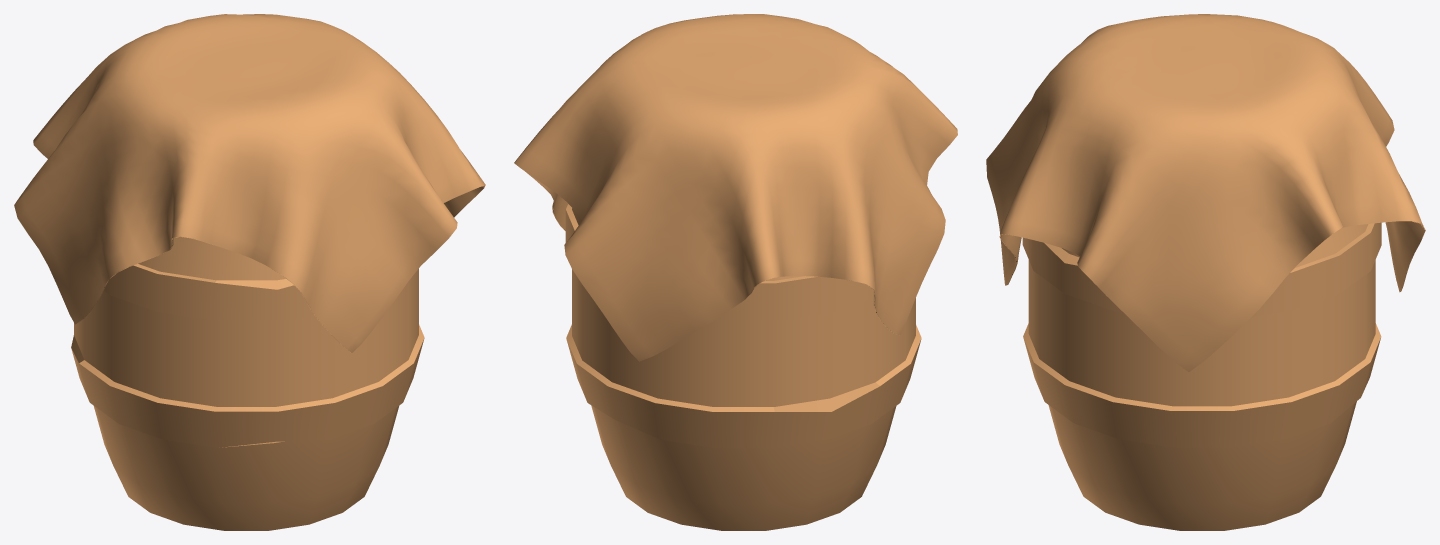
The model's file is Barrel_M.fbx.
3 renders of one model, left to right at view 1: azimuth 30°, elevation 25°; view 2: azimuth 150°, elevation 25°; view 3: azimuth 270°, elevation 25°, orthographic.
Visible parts, largest first — view 1: BarrelCover_LOD0, Barrel_LOD0; view 2: BarrelCover_LOD0, Barrel_LOD0; view 3: BarrelCover_LOD0, Barrel_LOD0.
Part boxes in pixels (bbox=[...]): BarrelCover_LOD0: bbox=[14, 14, 485, 352]; Barrel_LOD0: bbox=[71, 237, 424, 530]; BarrelCover_LOD0: bbox=[514, 14, 957, 361]; Barrel_LOD0: bbox=[565, 204, 921, 530]; BarrelCover_LOD0: bbox=[986, 14, 1425, 371]; Barrel_LOD0: bbox=[1022, 222, 1381, 530].
Size of what is drawn, in the model's own units: 86.43 by 94.72 by 90.1.
